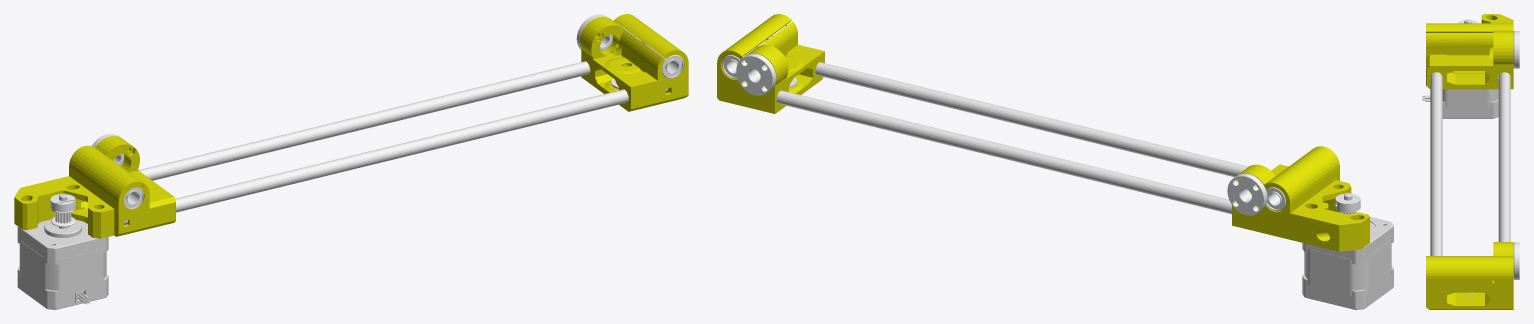
The model's file is prusamk3-z.dae.
3 views of the same model, side by side, from view 1: azimuth 30°, elevation 25°; view 2: azimuth 150°, elevation 25°; view 3: azimuth 270°, elevation 25° (orthographic). The views are drawn at different scales.
Parts seen in each view (by area): view 1: Part__Feature062, Part__Feature063, Part__Feature073, Part__Feature065, Part__Feature064, Part__Feature074, Part__Feature067; view 2: Part__Feature062, Part__Feature064, Part__Feature065, Part__Feature073, Part__Feature063, Part__Feature078, Part__Feature077; view 3: Part__Feature062, Part__Feature063, Part__Feature065, Part__Feature064, Part__Feature073, Part__Feature078, Part__Feature077.
Part boxes in pixels (bbox=[...]): Part__Feature062: bbox=[14, 136, 175, 238]; Part__Feature063: bbox=[579, 14, 688, 111]; Part__Feature073: bbox=[17, 193, 108, 309]; Part__Feature065: bbox=[124, 88, 668, 224]; Part__Feature064: bbox=[138, 61, 590, 180]; Part__Feature074: bbox=[50, 194, 75, 226]; Part__Feature067: bbox=[646, 44, 683, 78]; Part__Feature062: bbox=[1232, 146, 1369, 251]; Part__Feature064: bbox=[776, 90, 1231, 214]; Part__Feature065: bbox=[815, 62, 1248, 177]; Part__Feature073: bbox=[1302, 193, 1393, 309]; Part__Feature063: bbox=[717, 14, 824, 113]; Part__Feature078: bbox=[736, 53, 776, 95]; Part__Feature077: bbox=[1227, 173, 1267, 215]; Part__Feature062: bbox=[1426, 14, 1513, 89]; Part__Feature063: bbox=[1426, 242, 1513, 309]; Part__Feature065: bbox=[1430, 72, 1442, 255]; Part__Feature064: bbox=[1498, 72, 1510, 241]; Part__Feature073: bbox=[1422, 19, 1498, 118]; Part__Feature078: bbox=[1513, 242, 1519, 279]; Part__Feature077: bbox=[1513, 31, 1519, 68].
Size of the model in its own units: 428 by 64.45 by 76.12.
